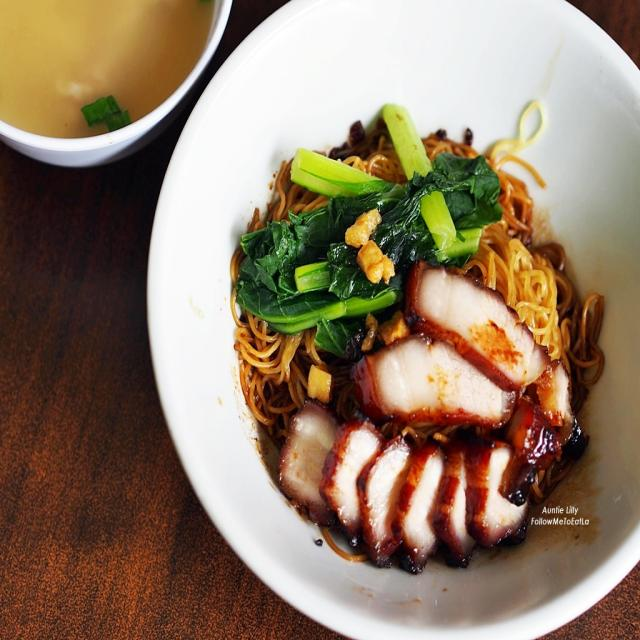Carbohydrate: (234, 139, 606, 503)
Noodle: (219, 34, 640, 640)
Protein: (277, 263, 581, 580)
Vegetable: (237, 102, 503, 367)
